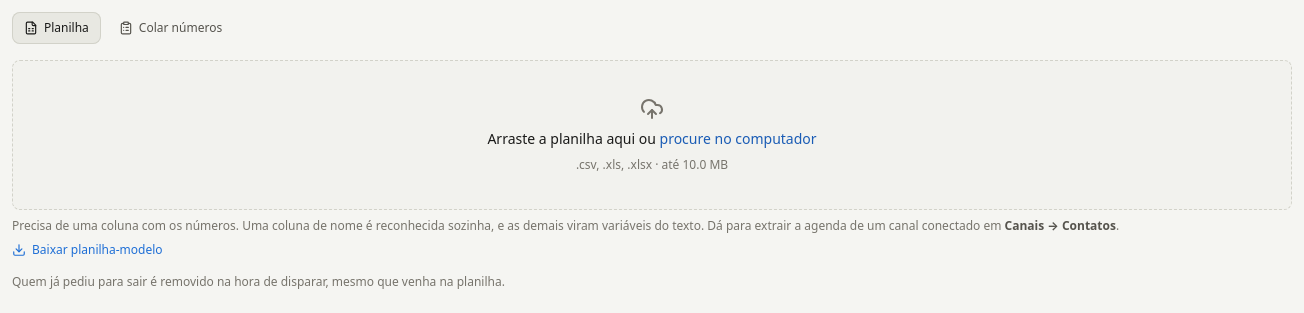
it: SeletorPublico — números colados › não deixa enviar caixa vazia
The width and height of the screenshot is (1304, 313).
Click the button "Colar números" at x=171, y=28, box x1=107 y1=12 x2=234 y2=44
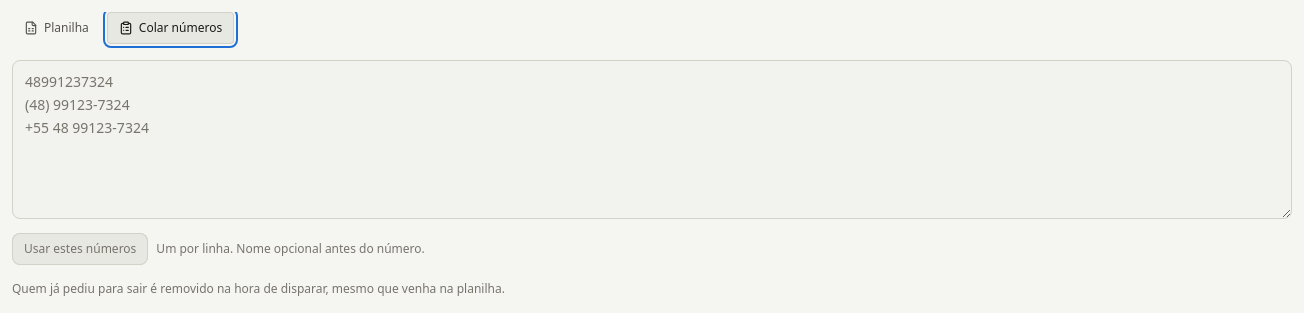
Expected: the button "Usar estes números" is disabled, x1=12 y1=232 x2=148 y2=264
